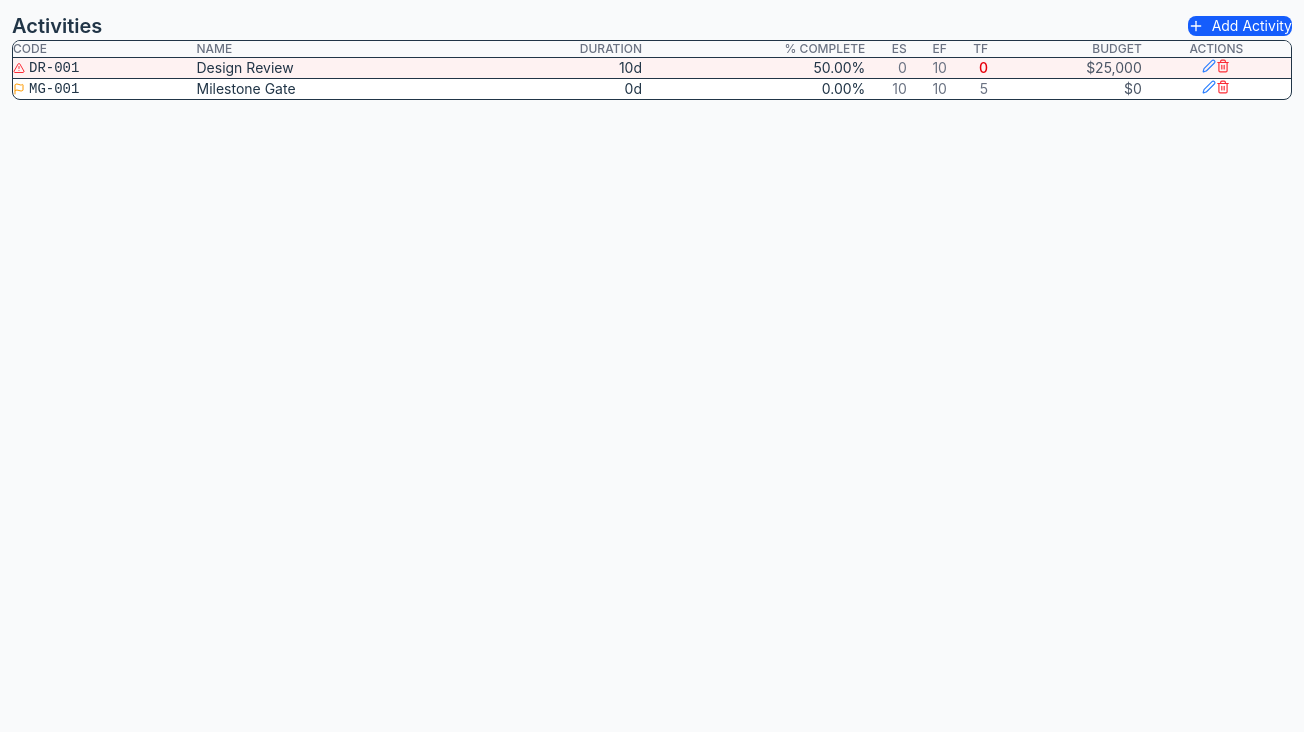
Test: ActivityList › shows success toast after successful deletion
Click the button named "Delete activity Design Review" at (1223, 66), box top-left (1216, 59), bottom-right (1230, 73)
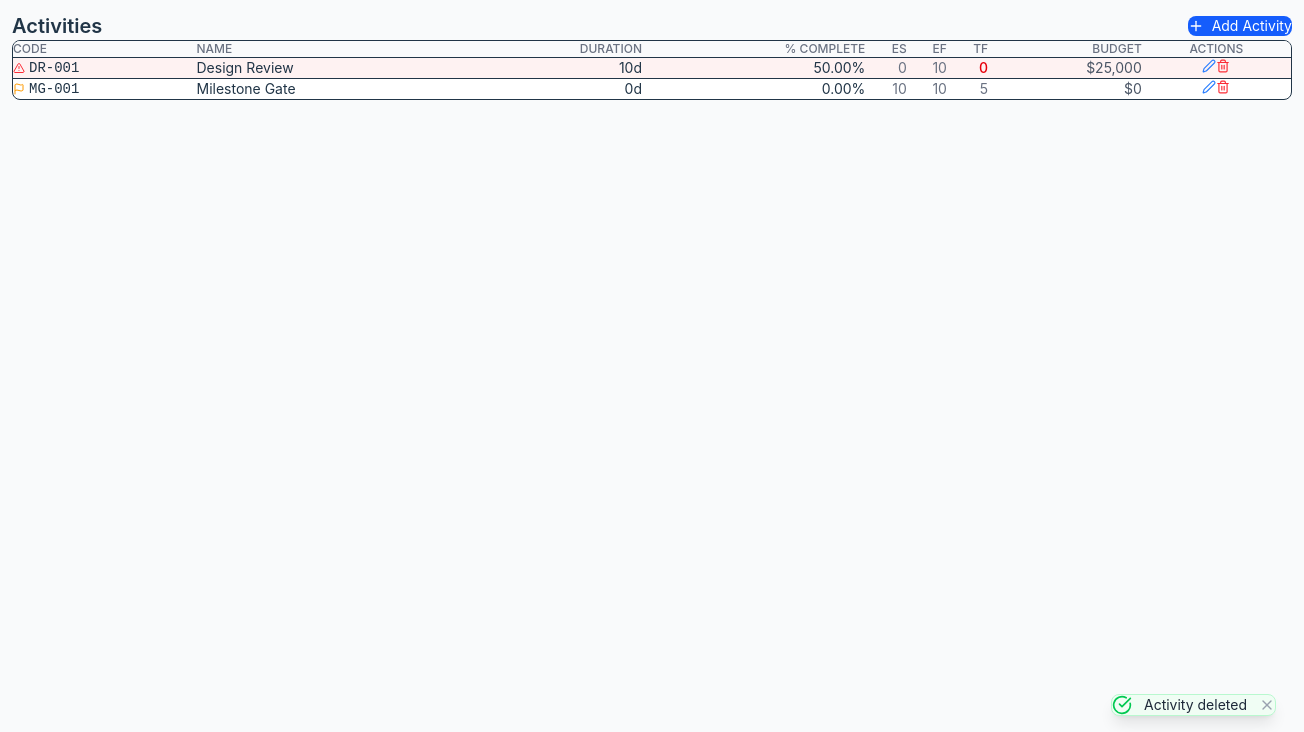
Expected: the text "Activity deleted" is shown, top-left (1144, 695), bottom-right (1247, 715)
